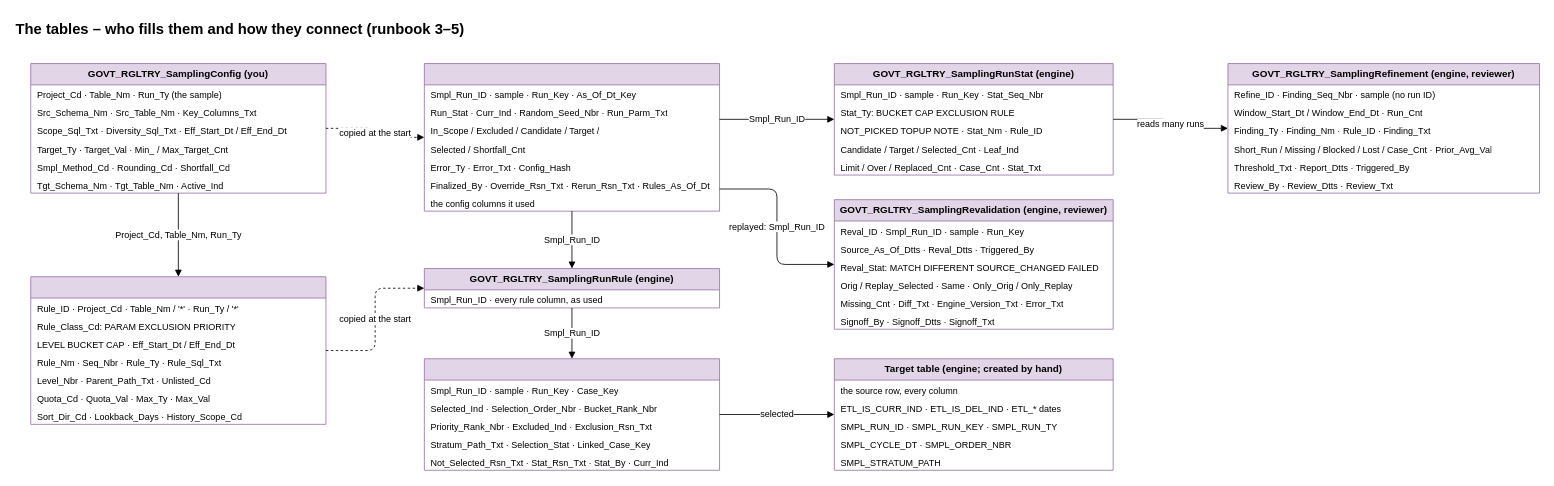
This 1554x486 diagram has some shape labels left out. Here are the shapes that lost their labels. From the top down, the box of each, then its label:
(424, 63, 720, 211): GOVT_RGLTRY_SamplingRun (engine)
(30, 276, 326, 424): GOVT_RGLTRY_SamplingRule (you)
(424, 358, 720, 470): GOVT_RGLTRY_SampleSelection (engine)
